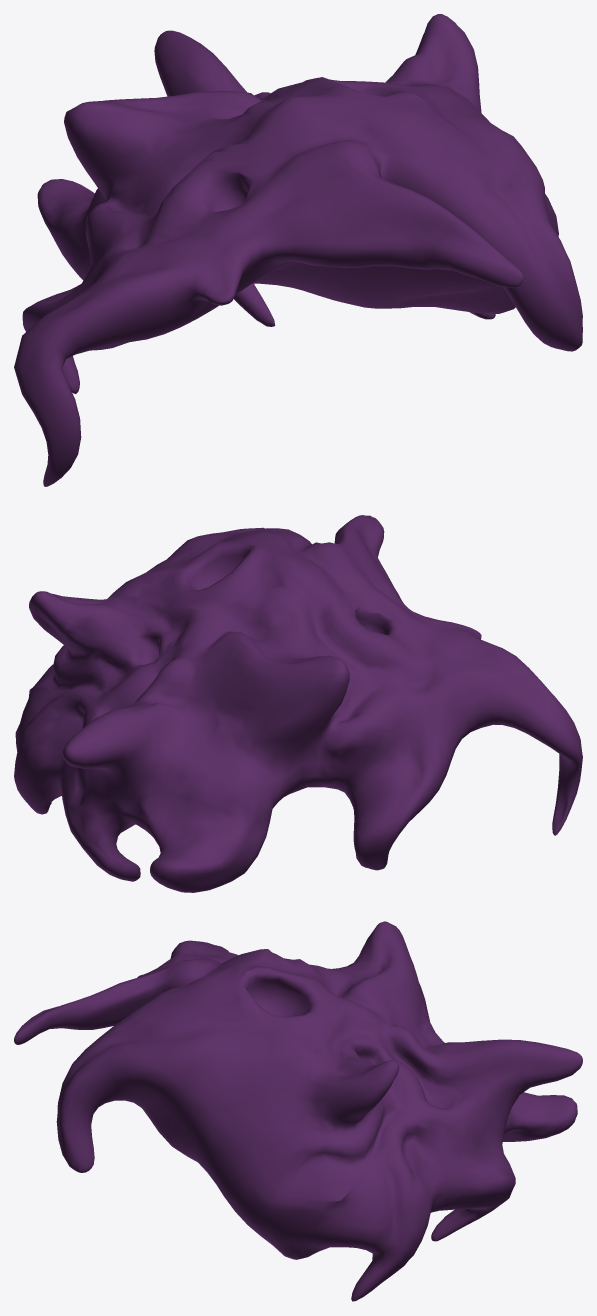
File: enemyShip_A_alien.fbx
The picture shows the model from 3 angles, top to bottom: view 1: azimuth 30°, elevation 25°; view 2: azimuth 150°, elevation 25°; view 3: azimuth 270°, elevation 25°; orthographic projection. The views are drawn at different scales.
Visible parts, largest first — view 1: Z_remesher; view 2: Z_remesher; view 3: Z_remesher.
Part boxes in pixels (x1,y1,x2,y2): Z_remesher: [14, 14, 582, 486]; Z_remesher: [14, 515, 582, 892]; Z_remesher: [14, 921, 582, 1301].
Bounding box in the file's own units: 801 × 430 × 855.
